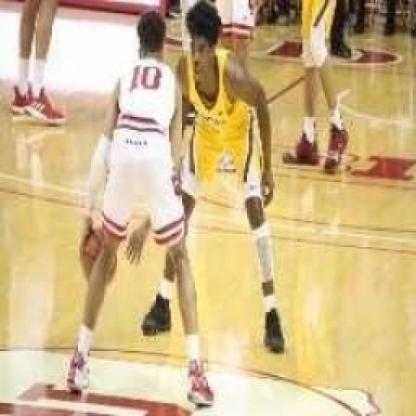basketball: (83, 231, 113, 280)
